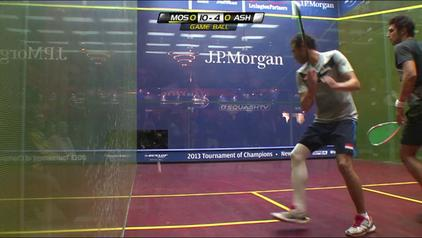stay: (286, 56, 367, 167)
